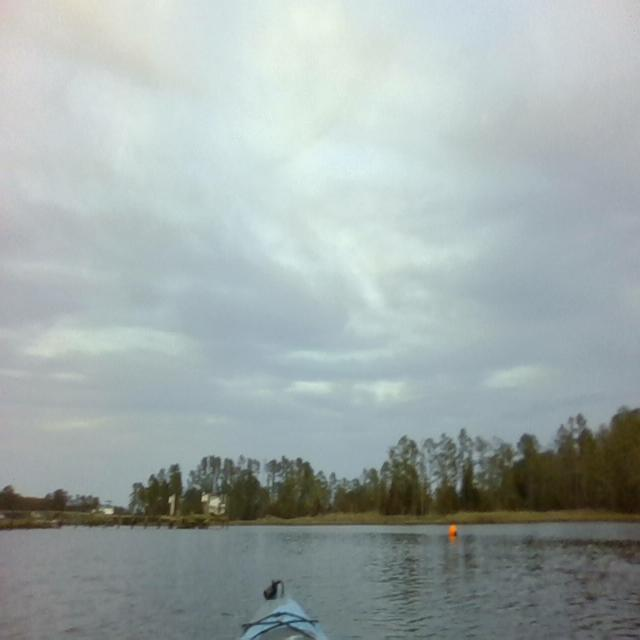Buoy: (448, 522, 459, 540)
